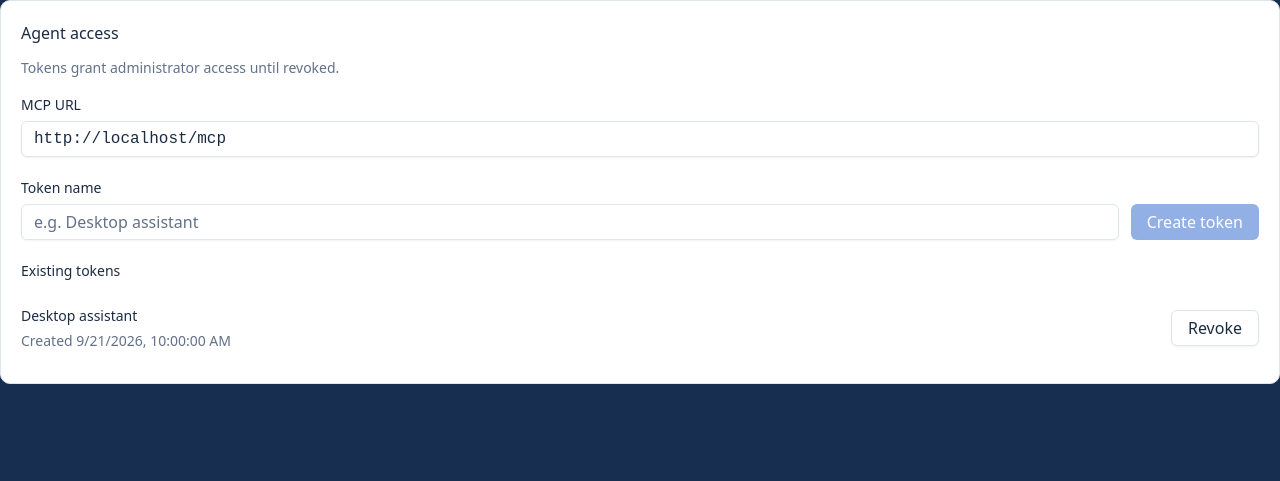
Test: retains a token after a failed revoke
Step 1. Click the button "Revoke" → point(1215, 328), box [1171,310,1259,346]
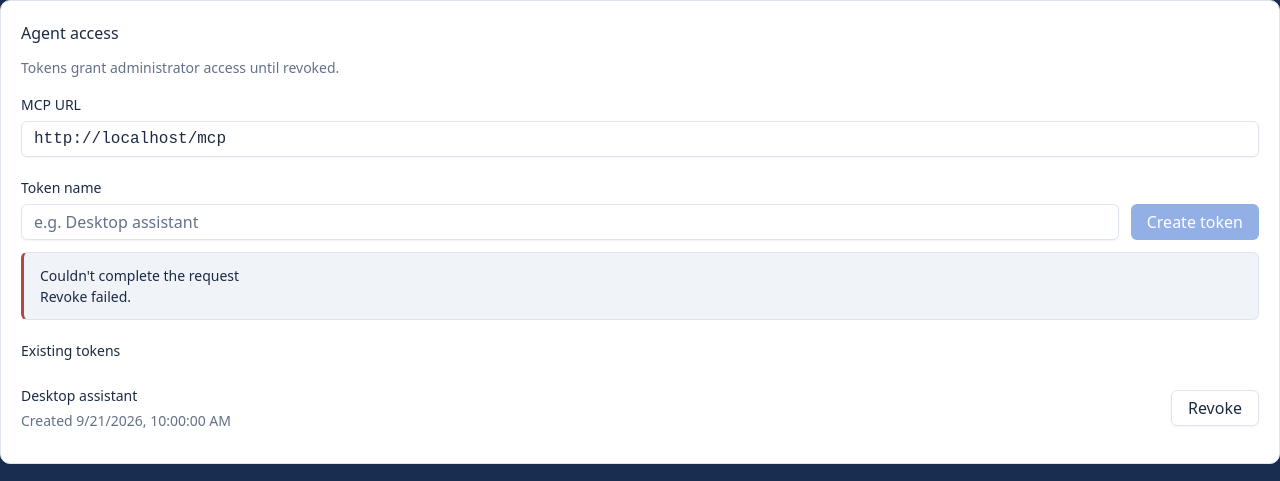
Expected: the text "Revoke failed." is shown, [40,287,131,306]
